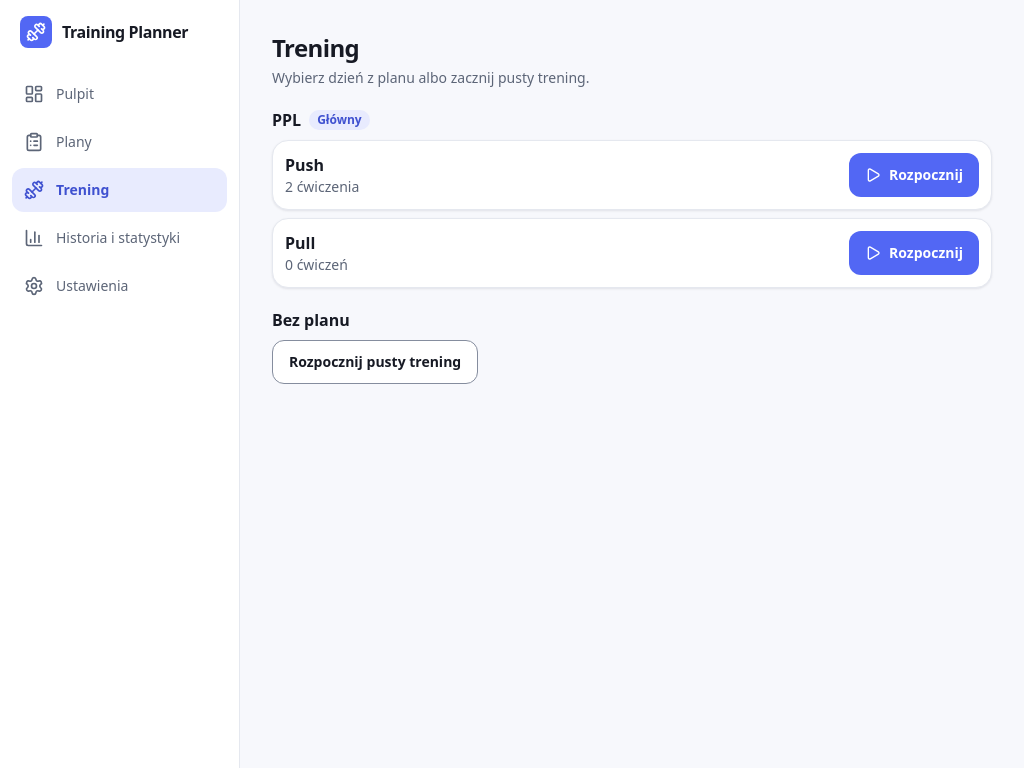
workout › switches between table and cards without losing data and remembers the view
Click the button with aria-label "Rozpocznij: Push" at point(914, 175), box [849,153,979,197]
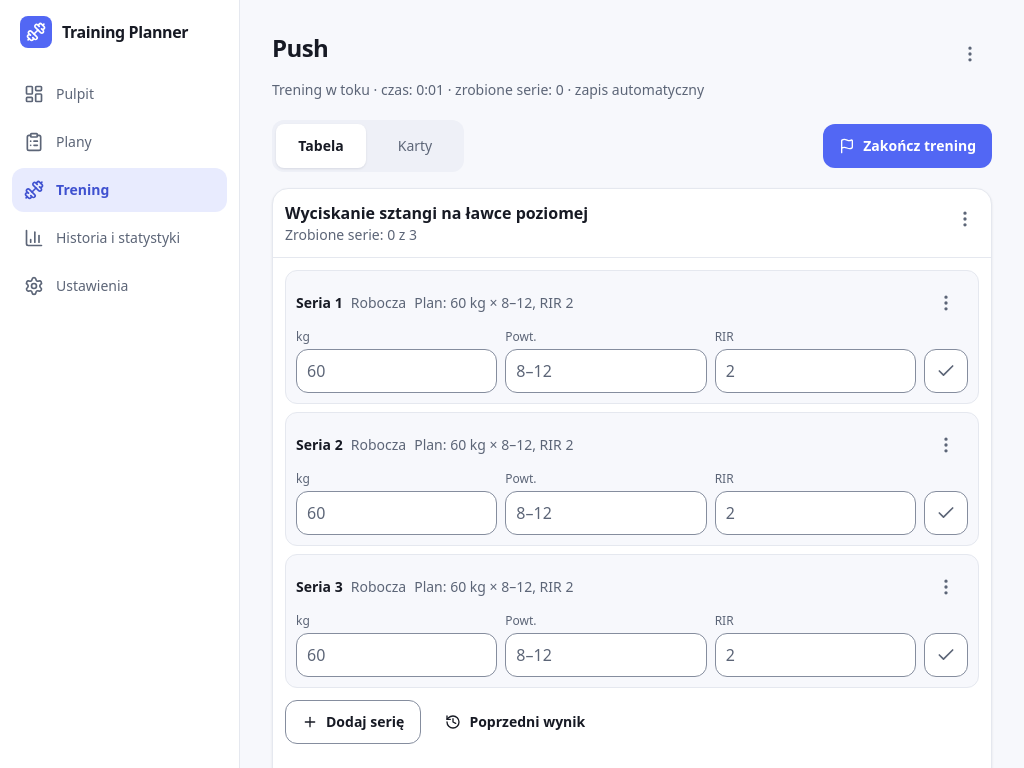
Type "9" into the 1st field labelled "Powt." at point(606, 371), box [505,349,707,393]
Press Tab
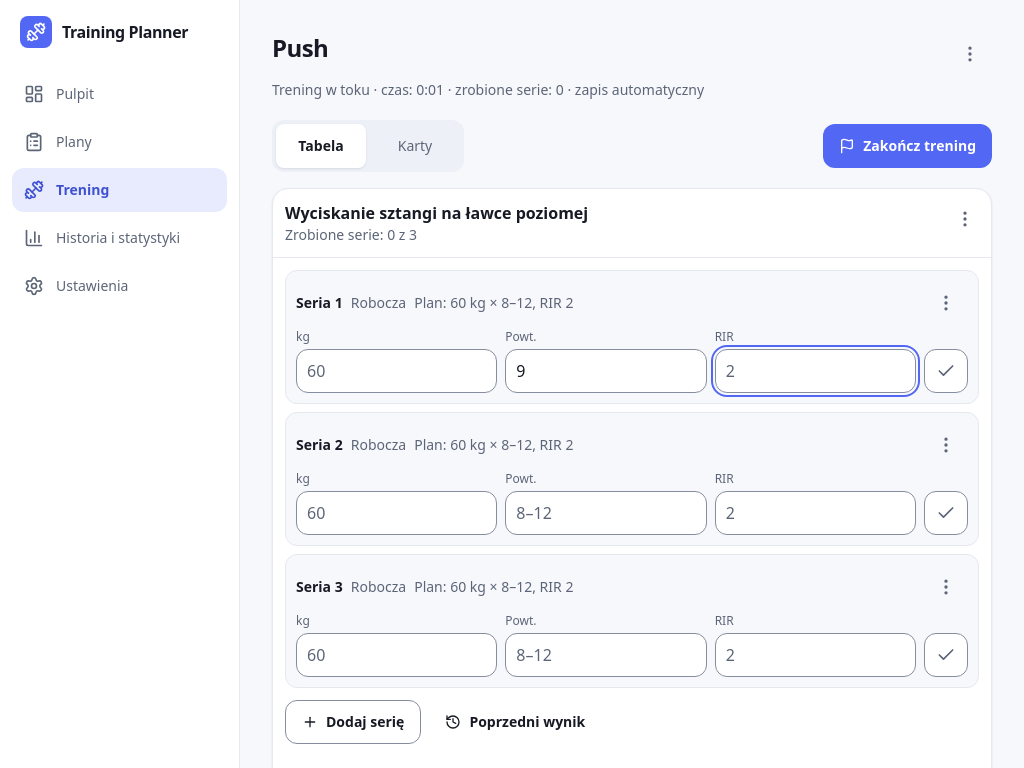
Click the radio button labelled "Karty" at point(415, 146), box [370,124,460,168]
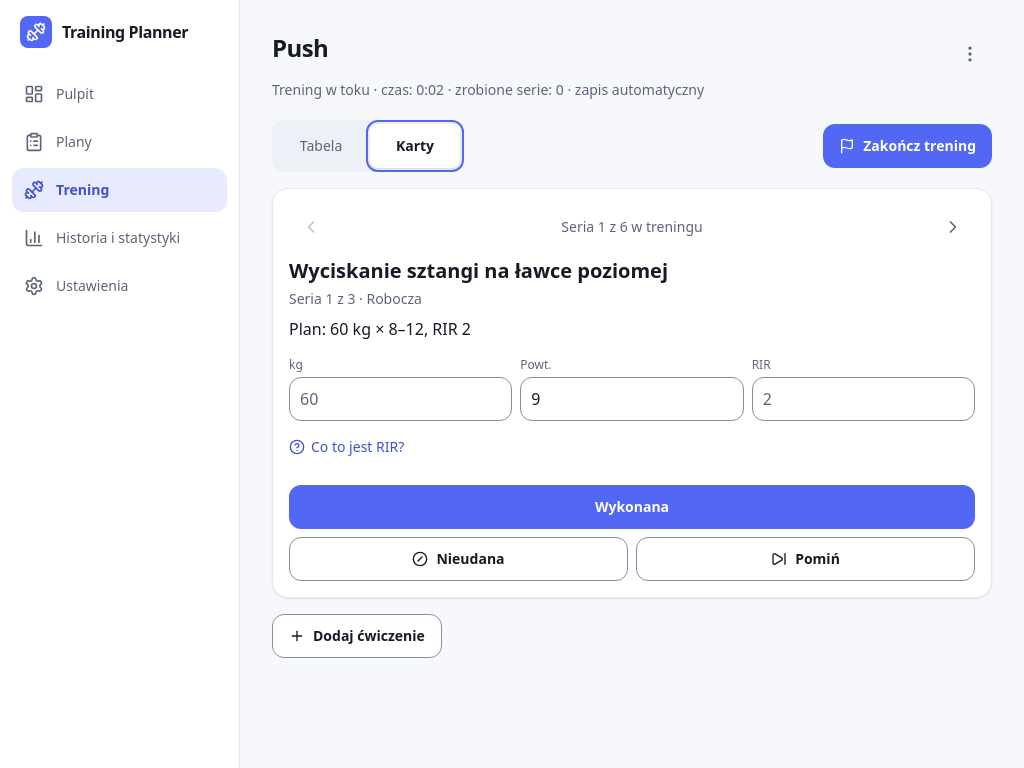
Click the button "Wykonana" at point(632, 507), box [289,485,975,529]
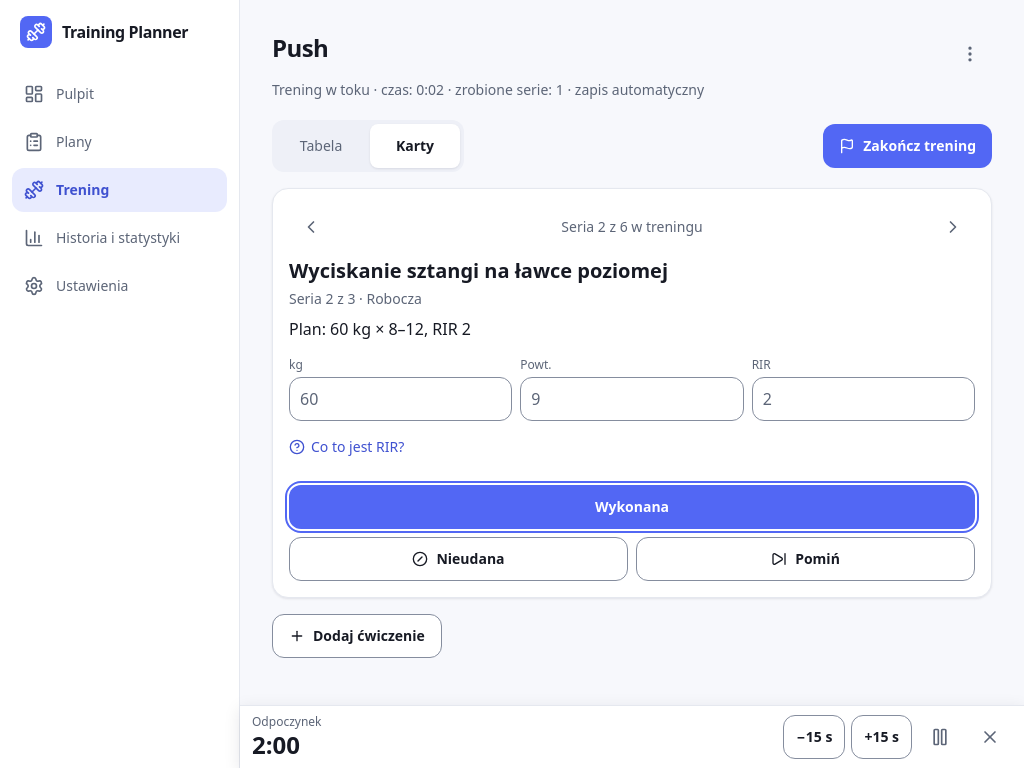
Click the button named "Poprzednia seria" at point(311, 227), box [289,205,333,249]
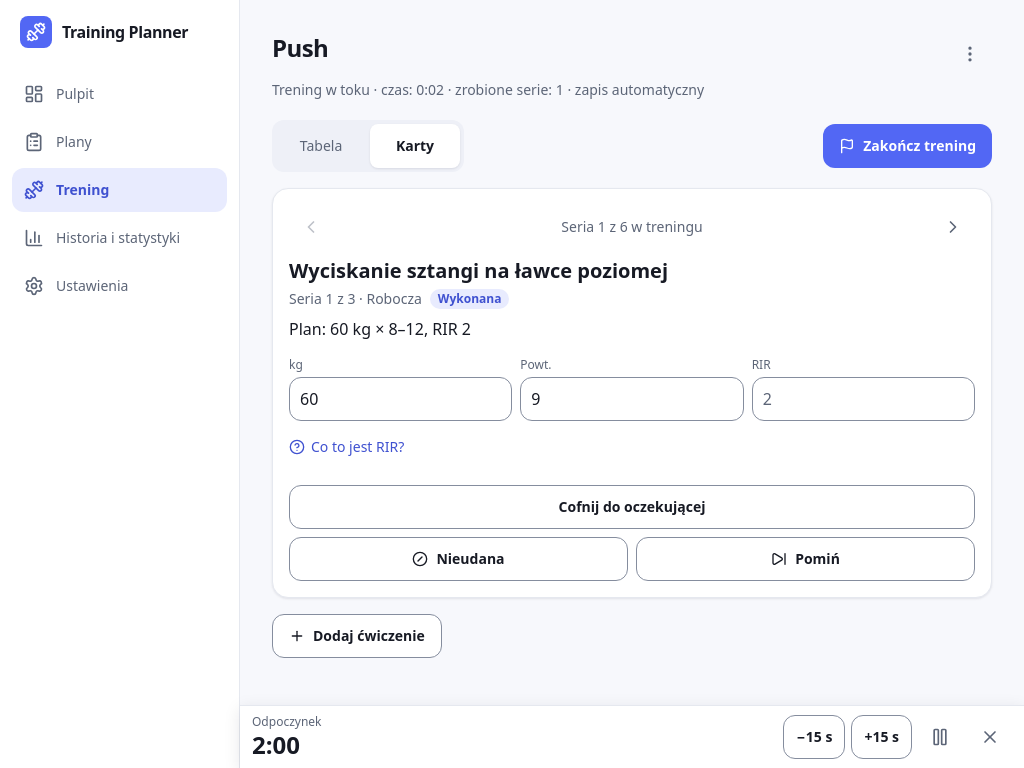
Click the radio button labelled "Tabela" at point(321, 146), box [276,124,366,168]
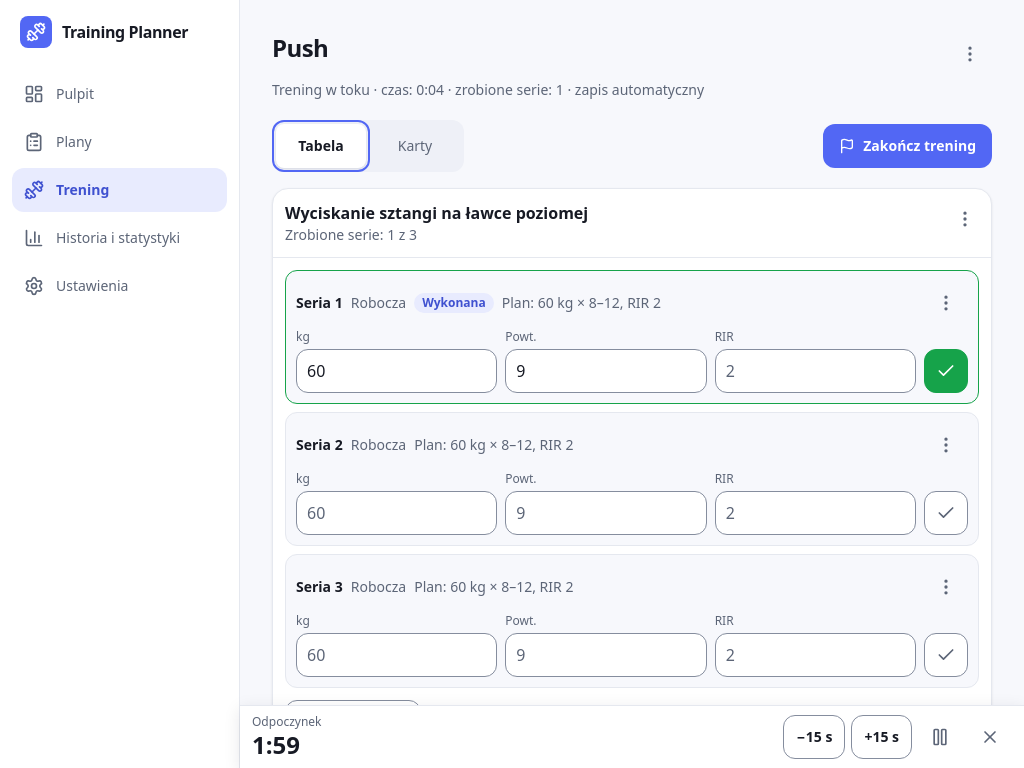
Result: the text "Zrobione serie: 1 z 3" is shown at [285,225,417,244]
